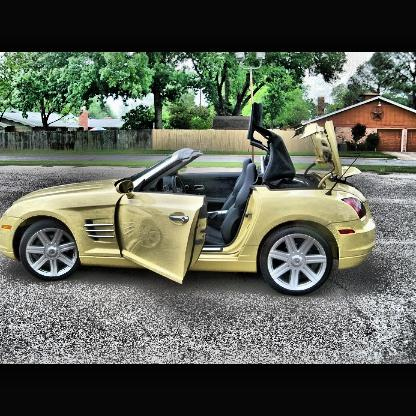Chrysler Crossfire Convertible 2008: (2, 104, 378, 294)
